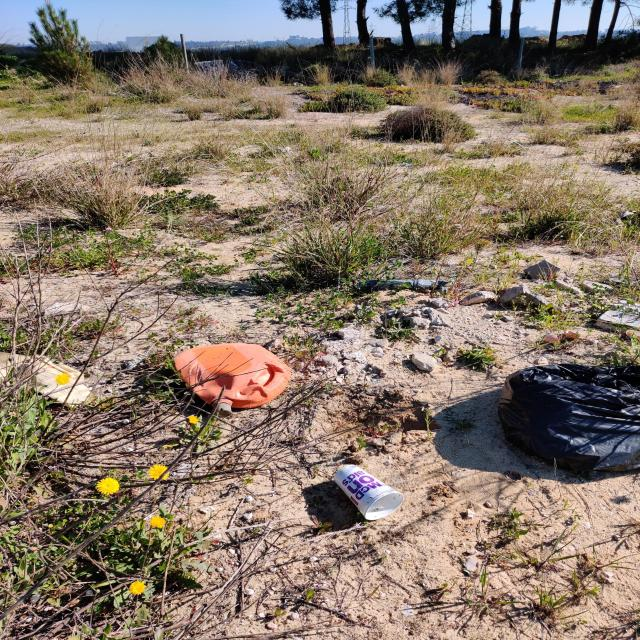litter: (498, 365, 639, 473), (175, 343, 292, 414), (0, 353, 94, 409), (334, 464, 403, 519), (361, 281, 449, 294), (600, 311, 639, 329)
